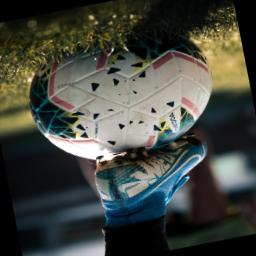football: (20, 22, 226, 174)
